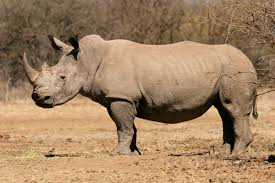Rhinoceros: (13, 24, 262, 161)
